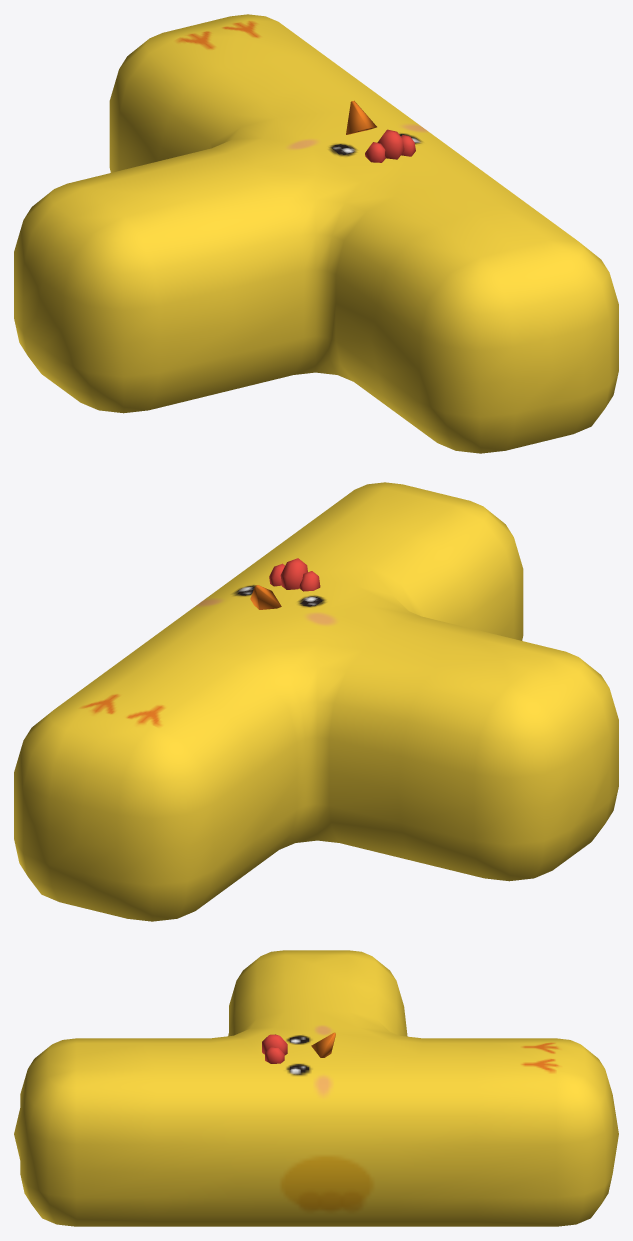
The model's file is Chicken_T.fbx.
3 renders of one model, top to bottom at view 1: azimuth 30°, elevation 25°; view 2: azimuth 150°, elevation 25°; view 3: azimuth 270°, elevation 25°, orthographic. The views are drawn at different scales.
Visible parts, largest first — view 1: Chicken_T; view 2: Chicken_T; view 3: Chicken_T.
Boxes of the visible parts, left/top/right/bottom form: Chicken_T: left=14, top=14, right=618, bottom=453; Chicken_T: left=14, top=482, right=618, bottom=921; Chicken_T: left=14, top=950, right=618, bottom=1226.
Bounding box in the file's own units: 1.9 × 0.8679 × 2.9.
1 material, 1 textured.
